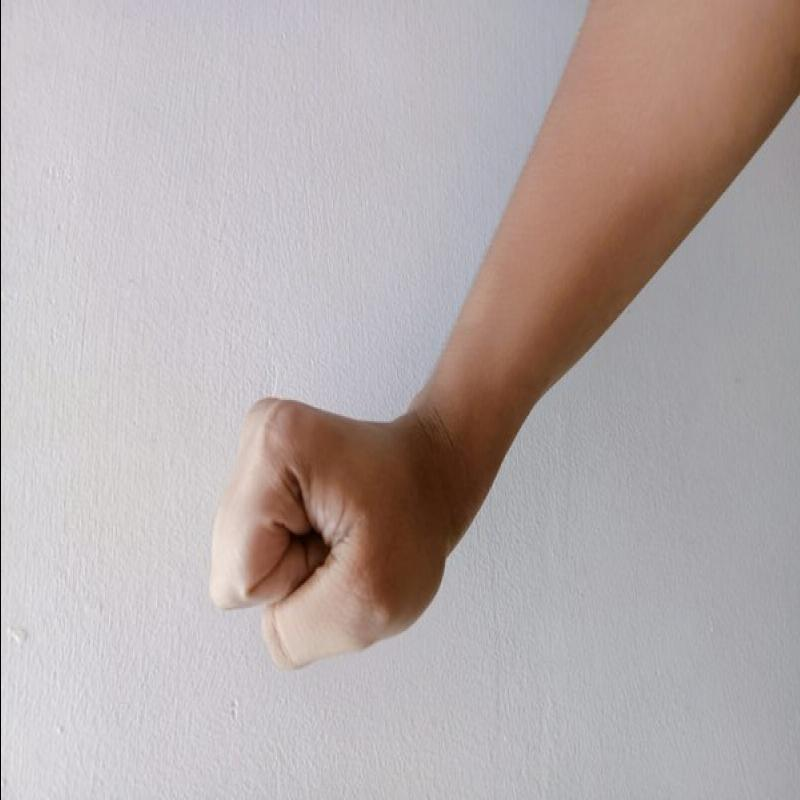Mushti: (174, 384, 498, 701)
